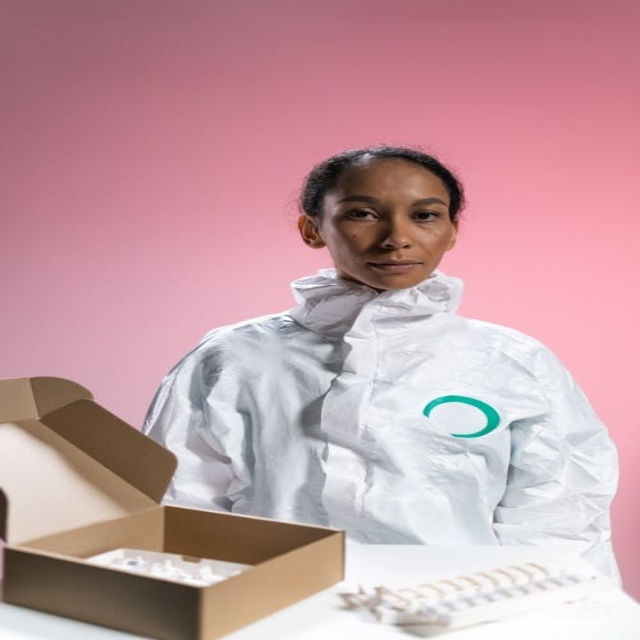Sin_gafas: (330, 192, 451, 227)
Sin_mascara: (361, 256, 429, 286)
